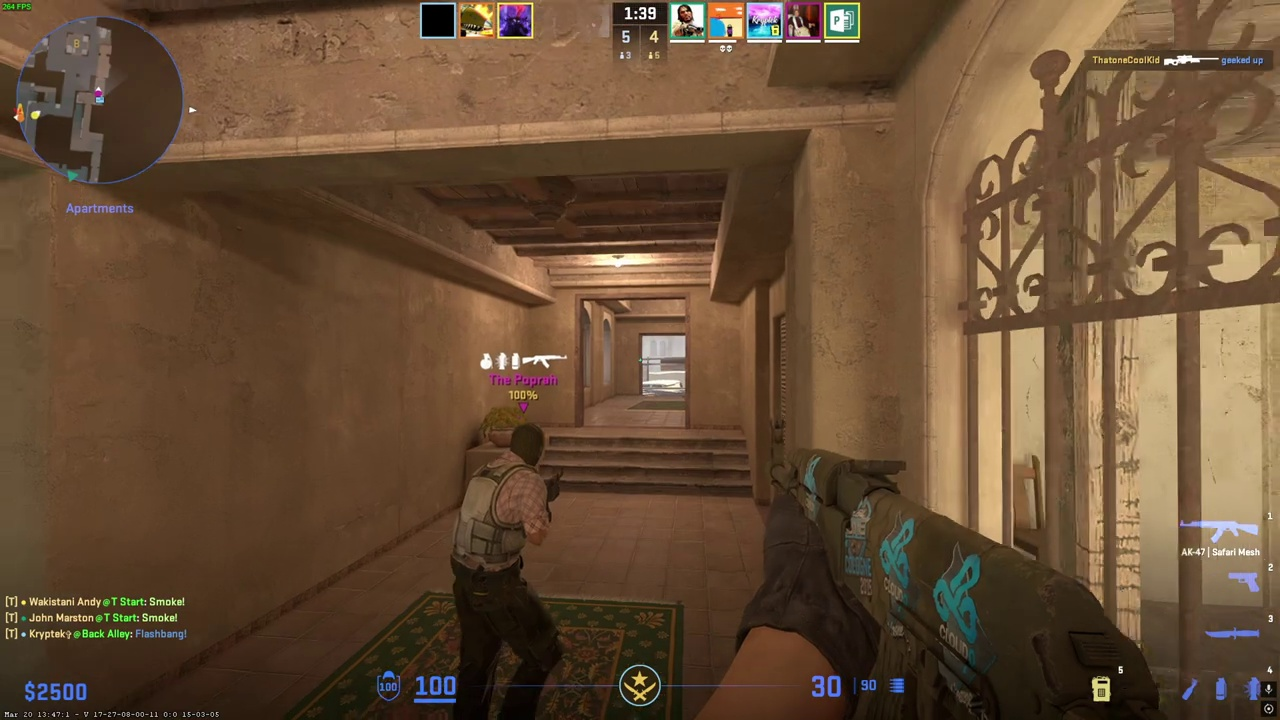Terrorist: (450, 422, 566, 719)
